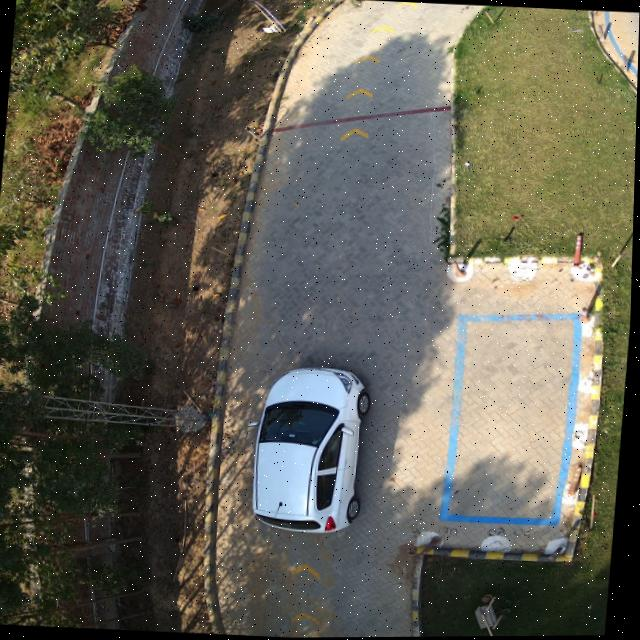car: (256, 367, 371, 533)
